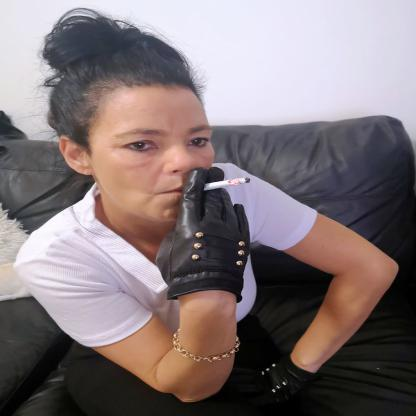smoking: (192, 177, 250, 191)
